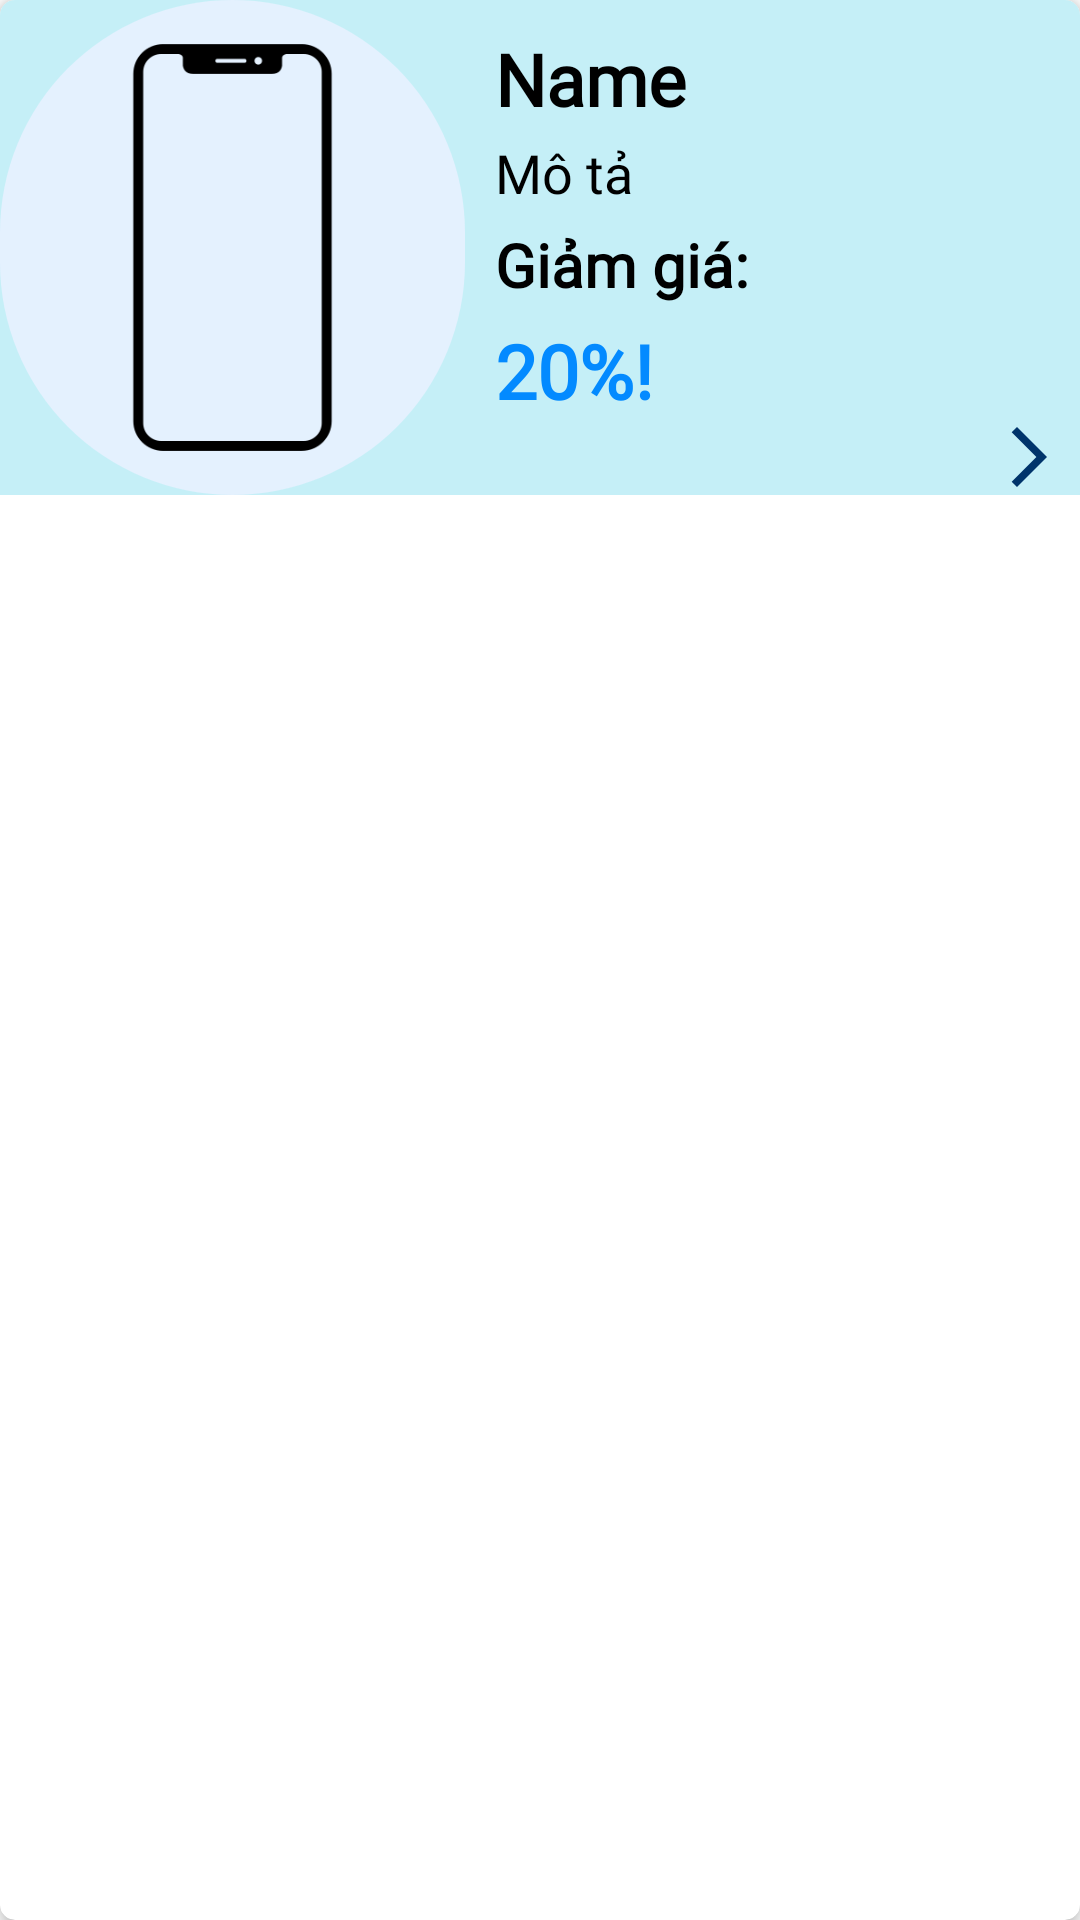

Named icons in this screenshot (1080w x 1920h) and their bounding boxes, Rect(x1, y1, x2, y2):
forward arrow: Rect(1012, 427, 1047, 487)
